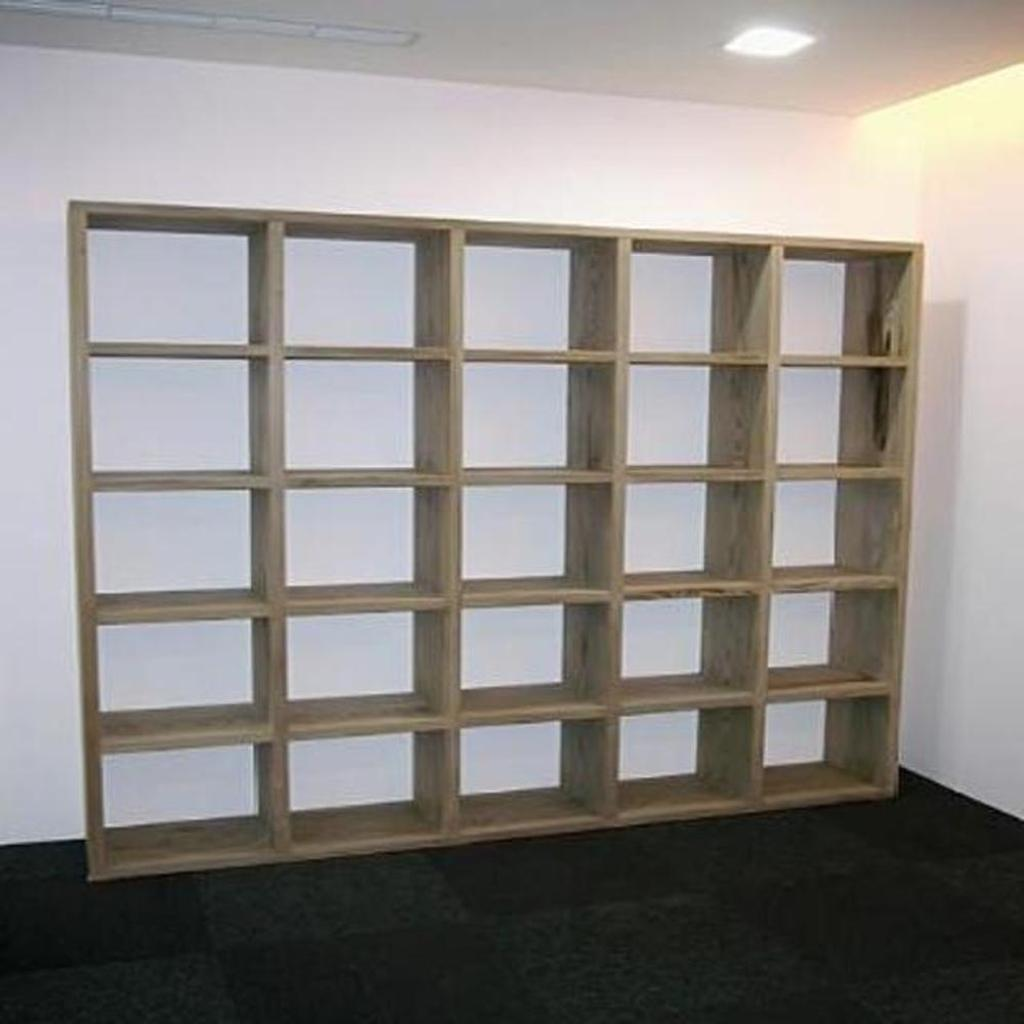lamp: (58, 198, 937, 886)
